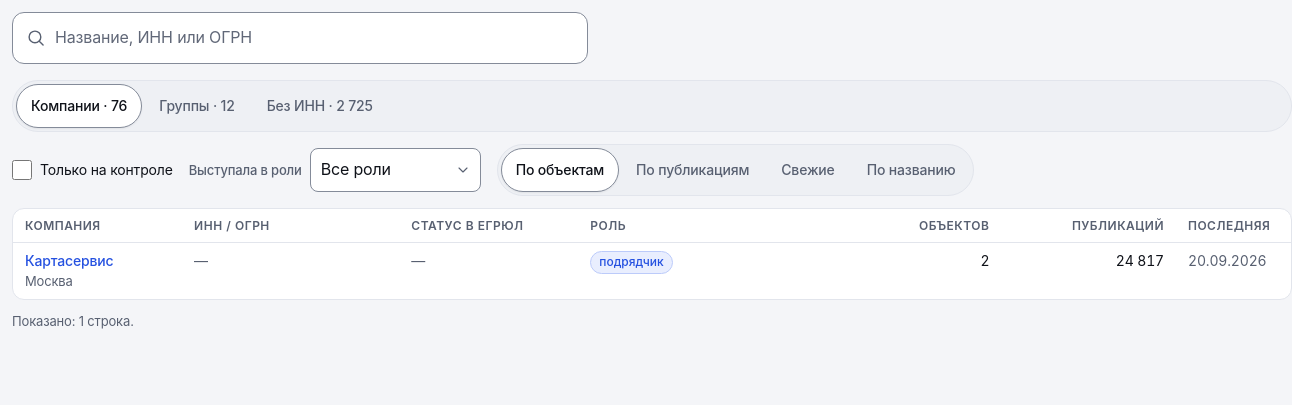
Scenario: Главная «Компании» › вкладки с числами; «Без ИНН» — пояснение и свои колонки, без фильтра «на контроле»
Click the button "Без ИНН · 2 725" at (320,106), box [252,84,388,128]
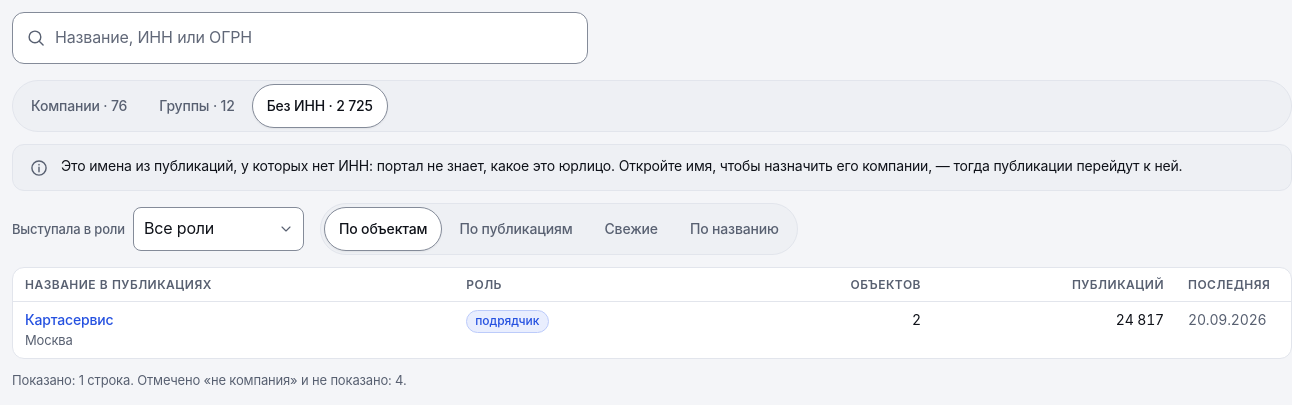
Expected: the text "имена из публикаций, у которых нет ИНН" is shown, [61,157,1182,174]
Expected: the column headings read "Название в публикациях", "Роль", "Объектов", "Публикаций", "Последняя", in this order, [13,268,454,302]; [454,268,735,302]; [735,268,933,302]; [933,268,1176,302]; [1176,268,1291,302]
Expected: the text labelled "Только на контроле" is gone
